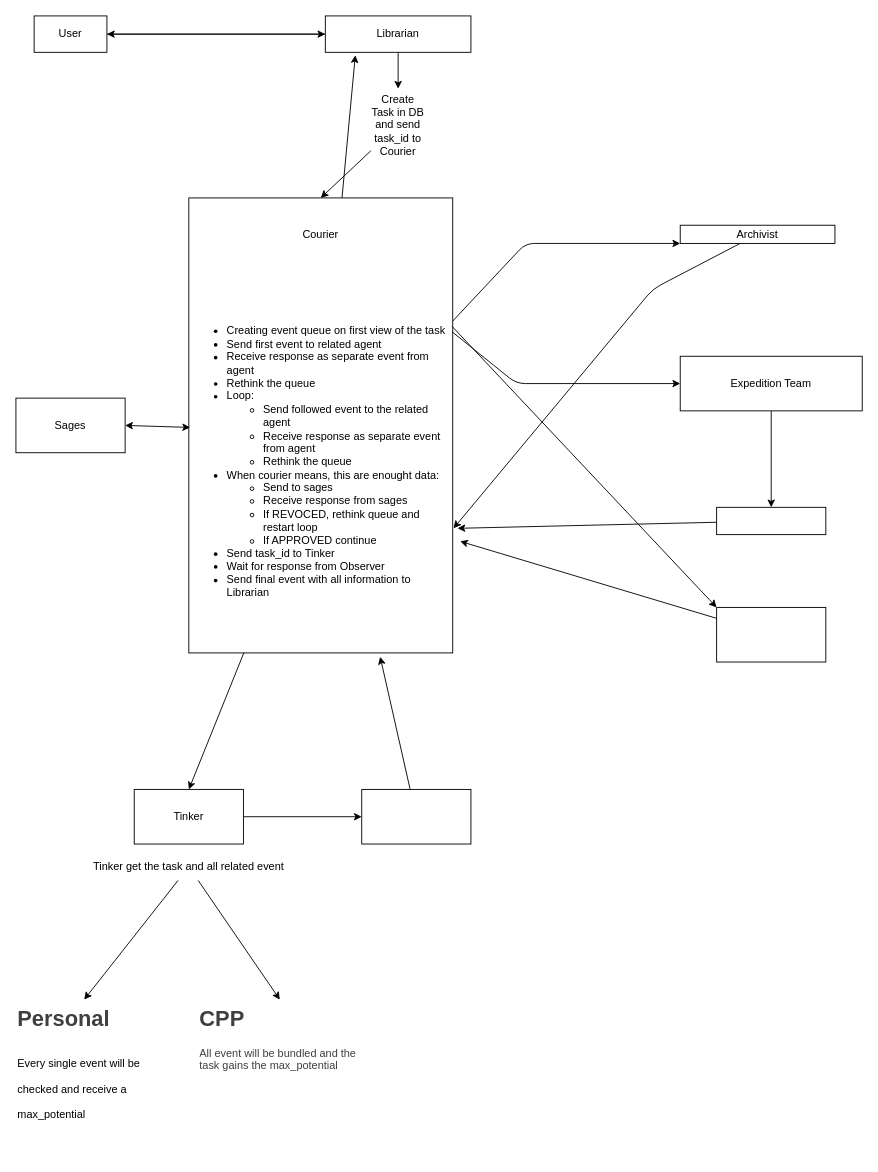
The diagram is 878 pixels wide and 1172 high, and some of its shapes have lost their labels. Each missing label, with the box of its shape:
cartographer: (716, 607, 826, 662)
Observer: (361, 789, 471, 844)
Sentinel: (716, 506, 826, 535)
